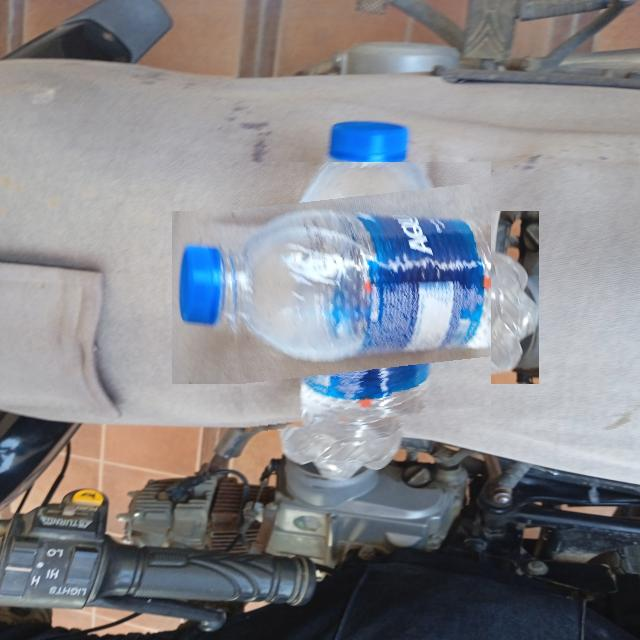Plastic: (221, 162, 491, 433)
